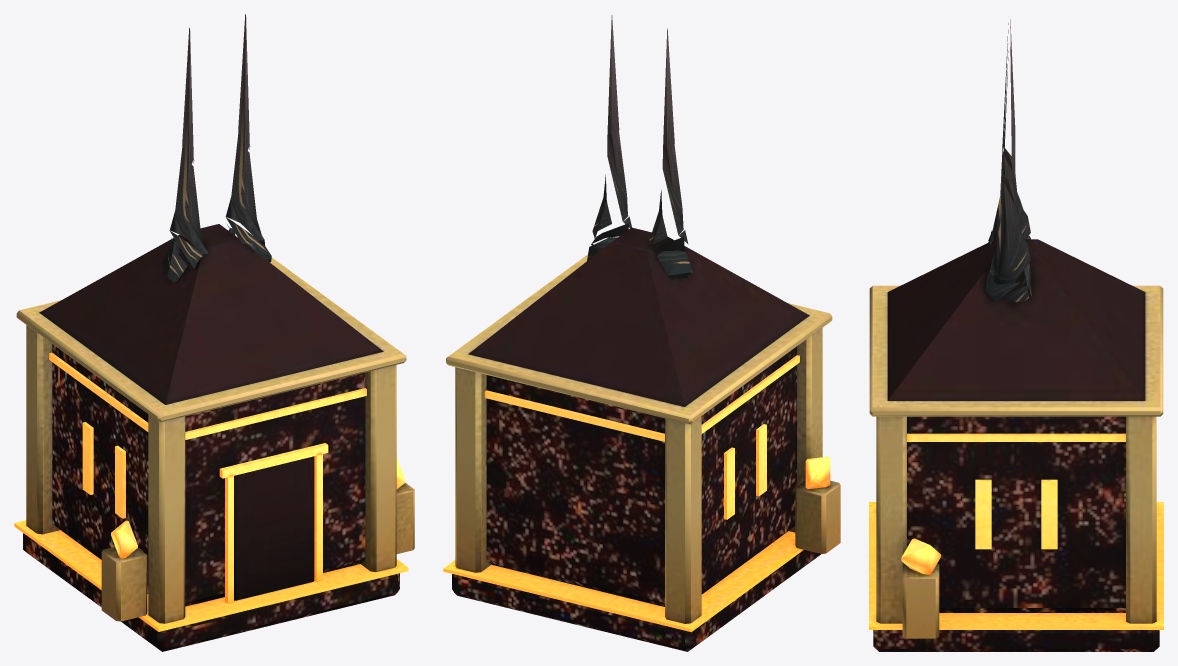
Rendered from bld2_fire.glb.
3 views of the same model, side by side, from view 1: azimuth 30°, elevation 25°; view 2: azimuth 150°, elevation 25°; view 3: azimuth 270°, elevation 25° (orthographic). The views are drawn at different scales.
Visible parts, largest first — view 1: bld2_fire; view 2: bld2_fire; view 3: bld2_fire.
Part boxes in pixels (<box>): bld2_fire: <box>14,14,414,651</box>; bld2_fire: <box>443,15,840,651</box>; bld2_fire: <box>869,19,1163,651</box>.
Size of the model in its own units: 4.8 by 8.53 by 4.02.
2 materials, 2 textured.
